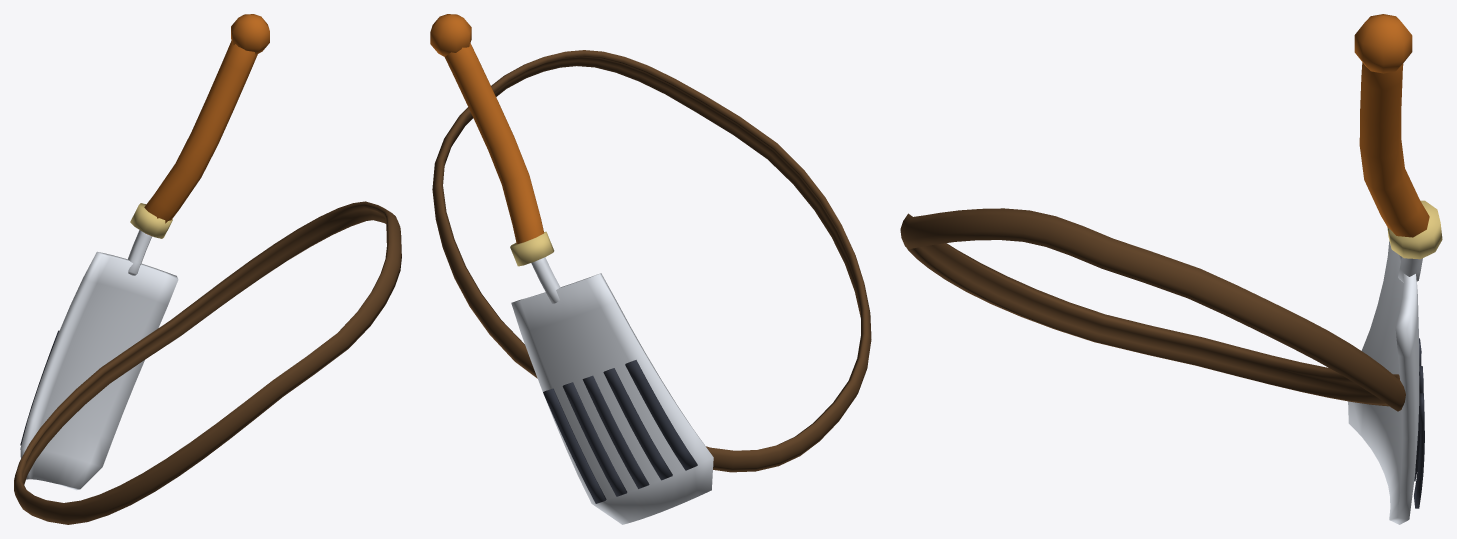
Rendered from back_sword.glb.
3 renders of one model, left to right at view 1: azimuth 30°, elevation 25°; view 2: azimuth 150°, elevation 25°; view 3: azimuth 270°, elevation 25°, orthographic. The views are drawn at different scales.
Visible parts, largest first — view 1: BackSword; view 2: BackSword; view 3: BackSword.
Part boxes in pixels (x1=…): BackSword: x1=14, y1=14, x2=401, y2=524; BackSword: x1=430, y1=14, x2=871, y2=524; BackSword: x1=900, y1=14, x2=1442, y2=524.
Size of the model in its own units: 0.5704 by 0.6834 by 0.5362.
